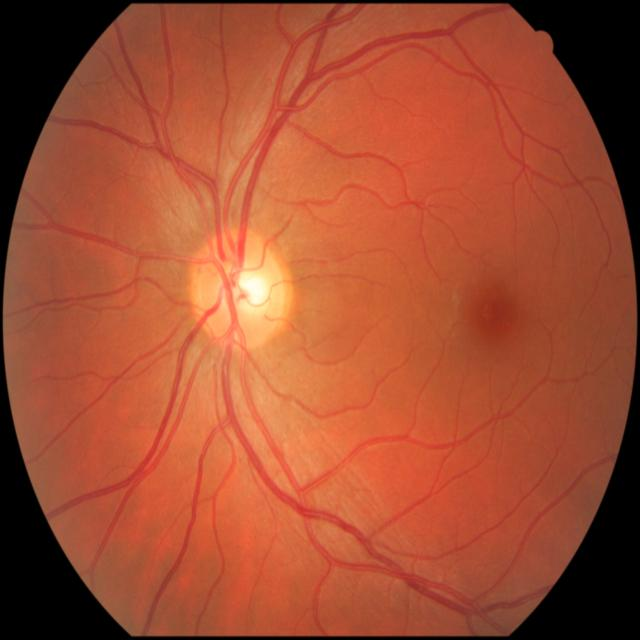OC: (232, 273, 270, 313)
OD: (187, 229, 285, 347)
